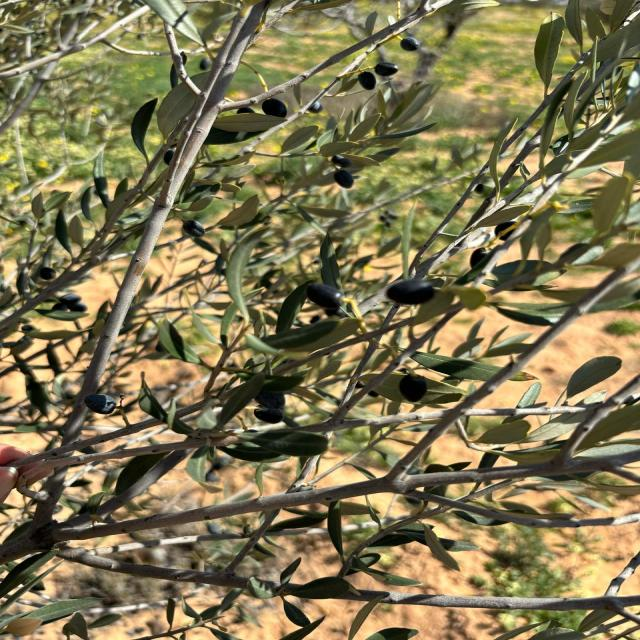Healthy: (535, 12, 565, 90), (387, 279, 435, 305), (399, 374, 427, 402), (85, 394, 116, 414), (261, 98, 287, 117), (357, 70, 376, 90), (334, 170, 354, 188), (374, 62, 398, 76), (401, 36, 419, 51)
